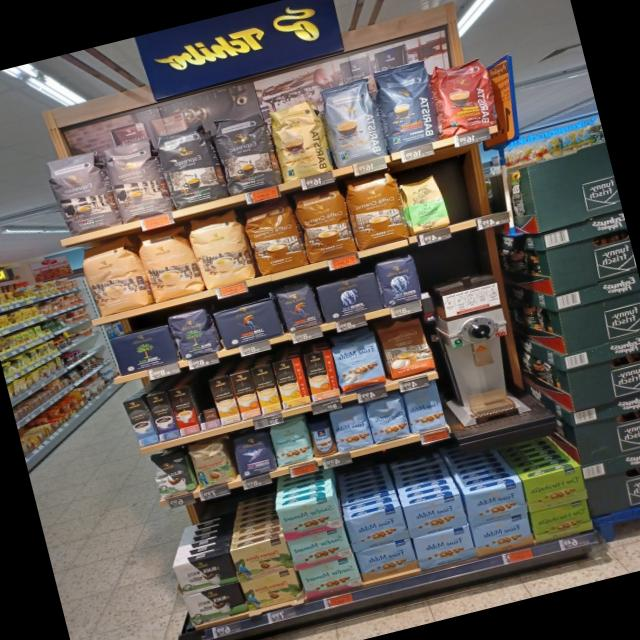AB Bohne: (372, 252, 425, 309)
AB Gemahlen: (314, 270, 384, 324)
Athiopien Gemahlen: (399, 173, 450, 234)
BM Bohne: (166, 306, 218, 361)
BM Gemahlen: (108, 323, 178, 377)
BW Bohne: (146, 448, 194, 500)
BW Gemahlen: (171, 548, 238, 598), (182, 581, 248, 627)
Barista CB: (264, 96, 335, 182)
Barista CC: (315, 75, 389, 168)
Barista Espresso: (368, 58, 444, 154)
Barista Kolumbien: (425, 51, 502, 139)
C Fino Bohne: (228, 428, 278, 481)
CC Mild: (75, 232, 150, 319), (187, 208, 254, 290), (135, 223, 202, 303)
CC Vollmundig: (377, 316, 435, 380)
CC Vollmundig 36 Pads: (340, 170, 410, 252), (292, 186, 357, 264), (241, 200, 307, 276)
Colombia BB Bohne: (186, 437, 236, 490)
Colombia BB Gemahlen: (228, 534, 293, 582), (239, 566, 302, 612)
Espresso Aromatisch: (43, 148, 119, 238), (101, 134, 170, 224)
Espresso Kraftig: (208, 107, 284, 197), (154, 119, 226, 210)
FM 36 Pads: (328, 327, 387, 392)
FM Bohne: (363, 392, 411, 446), (326, 402, 374, 454), (401, 382, 448, 435)
FM Gemahlen: (401, 491, 468, 539), (343, 504, 408, 552), (462, 480, 528, 526), (469, 512, 535, 558), (412, 524, 476, 570), (354, 538, 418, 582)
FM Instant: (305, 418, 338, 458)
Herzhatfe Mundig: (520, 463, 589, 512), (529, 498, 594, 544)
LG Bohne: (274, 280, 322, 334)
LG Gemahlen: (212, 296, 283, 351)
SM Bohne: (267, 418, 314, 468)
SM Gemahlen: (275, 492, 343, 542), (298, 554, 362, 600), (286, 527, 352, 571)
Simo CCMild: (272, 356, 311, 408)
Simo CCMild bigpack: (251, 364, 281, 414)
Simo CCVollmundig: (302, 348, 342, 402)
Simo CCVollmundig bigpack: (230, 370, 260, 420)
Simo Decaff: (210, 374, 240, 425)
Simo Es Brazil: (168, 385, 200, 436)
Simo Es Kraft: (145, 392, 180, 441)
Simo Es Vanilla: (121, 396, 158, 446)
